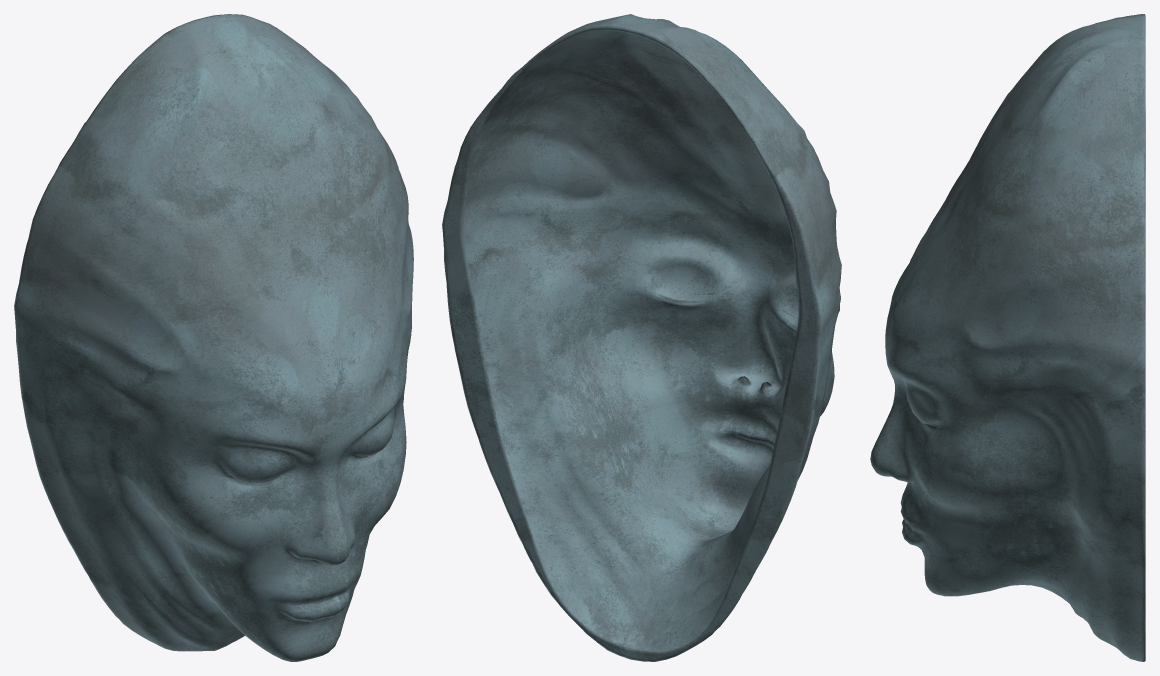
Rendered from masque-extraterrestre-ancien.glb.
3 renders of one model, left to right at view 1: azimuth 30°, elevation 25°; view 2: azimuth 150°, elevation 25°; view 3: azimuth 270°, elevation 25°, orthographic.
Visible parts, largest first — view 1: AncientAlienMask; view 2: AncientAlienMask; view 3: AncientAlienMask.
Part boxes in pixels (x1=…): AncientAlienMask: x1=14, y1=14, x2=413, y2=661; AncientAlienMask: x1=442, y1=14, x2=841, y2=661; AncientAlienMask: x1=870, y1=14, x2=1145, y2=661.
Size of the model in its own units: 0.158 by 0.25 by 0.0995.
1 material, 1 textured.
